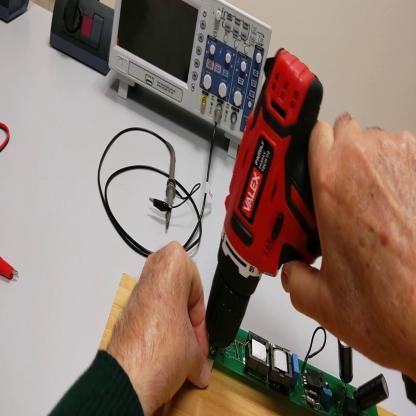electric screwdriver: (206, 46, 416, 404)
hand: (283, 114, 415, 379), (113, 240, 212, 404)
high voltage board: (208, 328, 390, 415)
oscilloscope: (114, 1, 274, 163)
oscilloscope probe tip: (163, 142, 179, 229)
socket: (49, 3, 118, 78), (2, 2, 30, 25)
working area: (101, 275, 394, 416)
